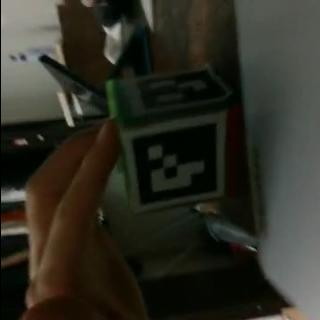armor: (121, 113, 228, 210), (125, 64, 232, 118)
robot: (105, 64, 242, 212)
